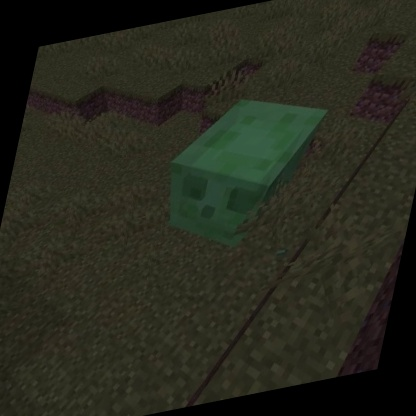slime: (145, 76, 338, 268)
